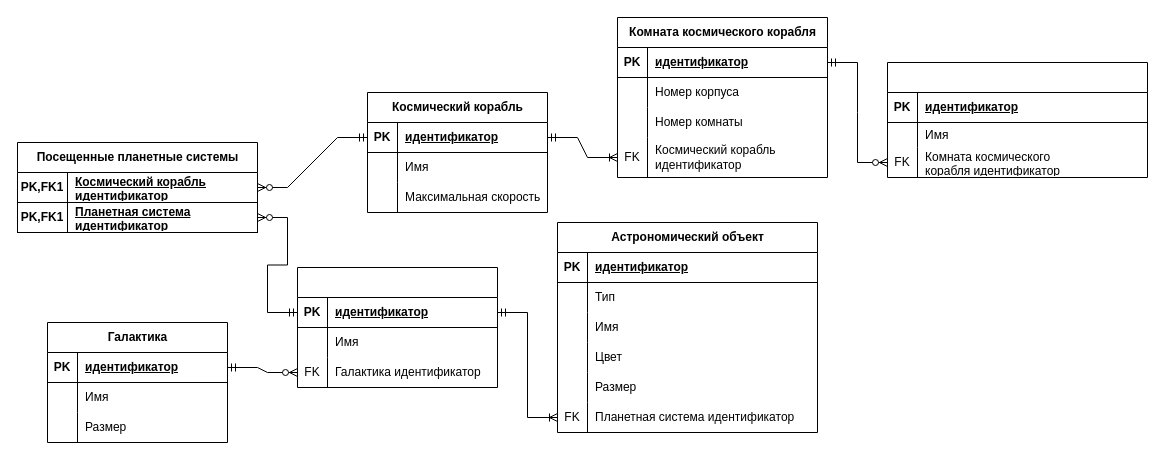
Image size: 1165x460. Some labels were removed from this diagram. Here are the shapes that lost their labels. From the top down, the box of each, then its label:
(886, 62, 1148, 178): Человек
(296, 266, 498, 388): Планетная система
